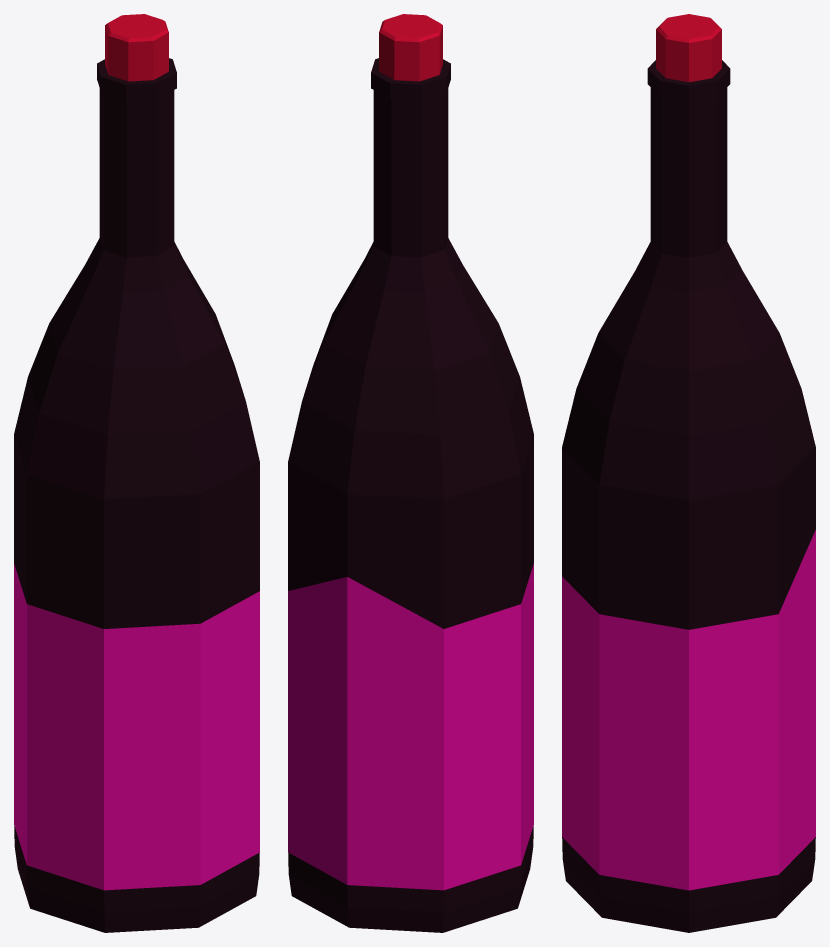
The model's file is BottleOfWine_01.fbx.
The picture shows the model from 3 angles, left to right: view 1: azimuth 30°, elevation 25°; view 2: azimuth 150°, elevation 25°; view 3: azimuth 270°, elevation 25°; orthographic projection.
Parts seen in each view (by area): view 1: BottleOfWine_01; view 2: BottleOfWine_01; view 3: BottleOfWine_01.
Part boxes in pixels (x1=…): BottleOfWine_01: x1=14, y1=14, x2=259, y2=932; BottleOfWine_01: x1=288, y1=14, x2=533, y2=932; BottleOfWine_01: x1=562, y1=14, x2=815, y2=932.
Bounding box in the file's own units: 2.64 × 9.79 × 2.64.
